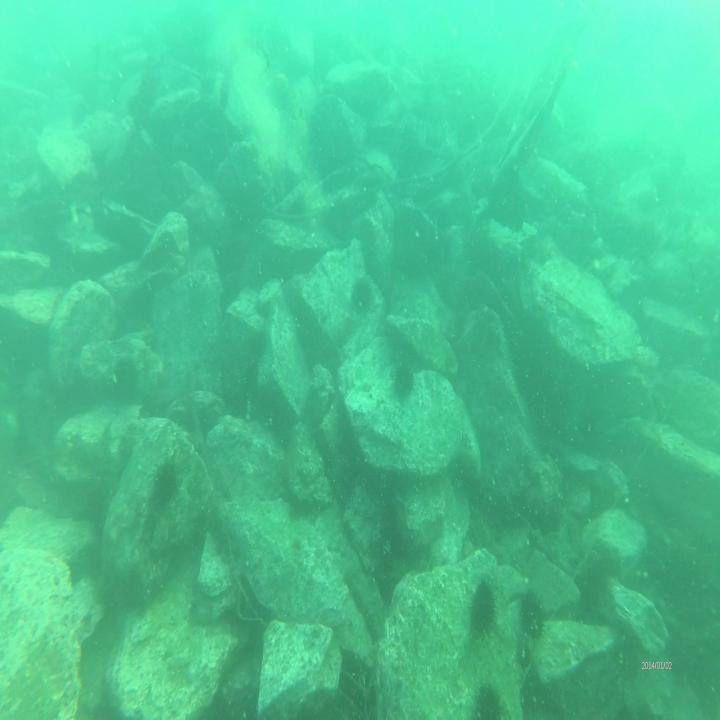echinus: (470, 569, 498, 640), (472, 675, 510, 720), (519, 581, 546, 637), (348, 273, 376, 317), (391, 356, 419, 397), (150, 457, 176, 501)
